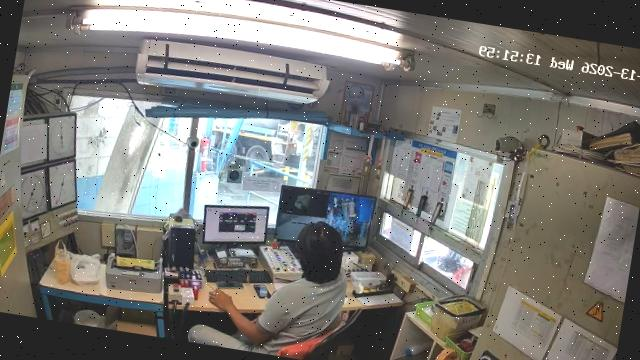Head: (296, 222, 343, 283)
People: (188, 223, 345, 358)
Phone: (253, 284, 268, 298), (217, 282, 243, 288)
